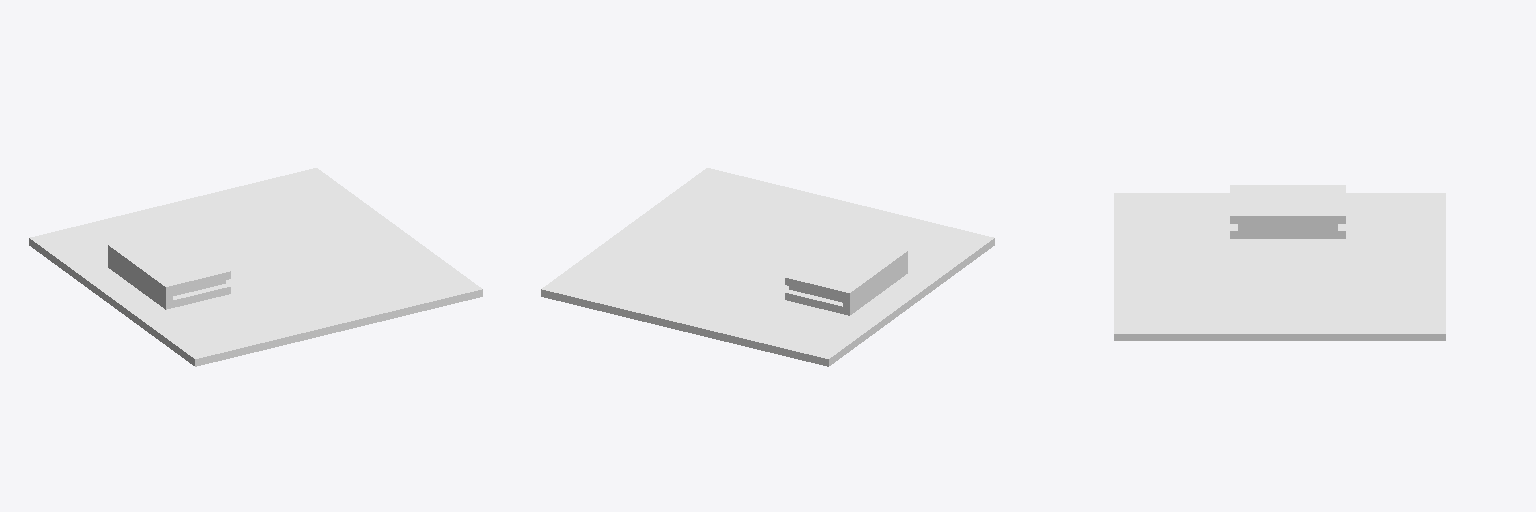
Rendered from world_cards.obj.
3 renders of one model, left to right at view 1: azimuth 30°, elevation 25°; view 2: azimuth 150°, elevation 25°; view 3: azimuth 270°, elevation 25°, orthographic.
Parts seen in each view (by area): view 1: object 1; view 2: object 1; view 3: object 1.
Part boxes in pixels (left/top/right/bottom): object 1: left=29, top=168, right=482, bottom=366; object 1: left=541, top=168, right=994, bottom=366; object 1: left=1114, top=185, right=1445, bottom=340.
Bounding box in the file's own units: 4 × 0.4 × 4.